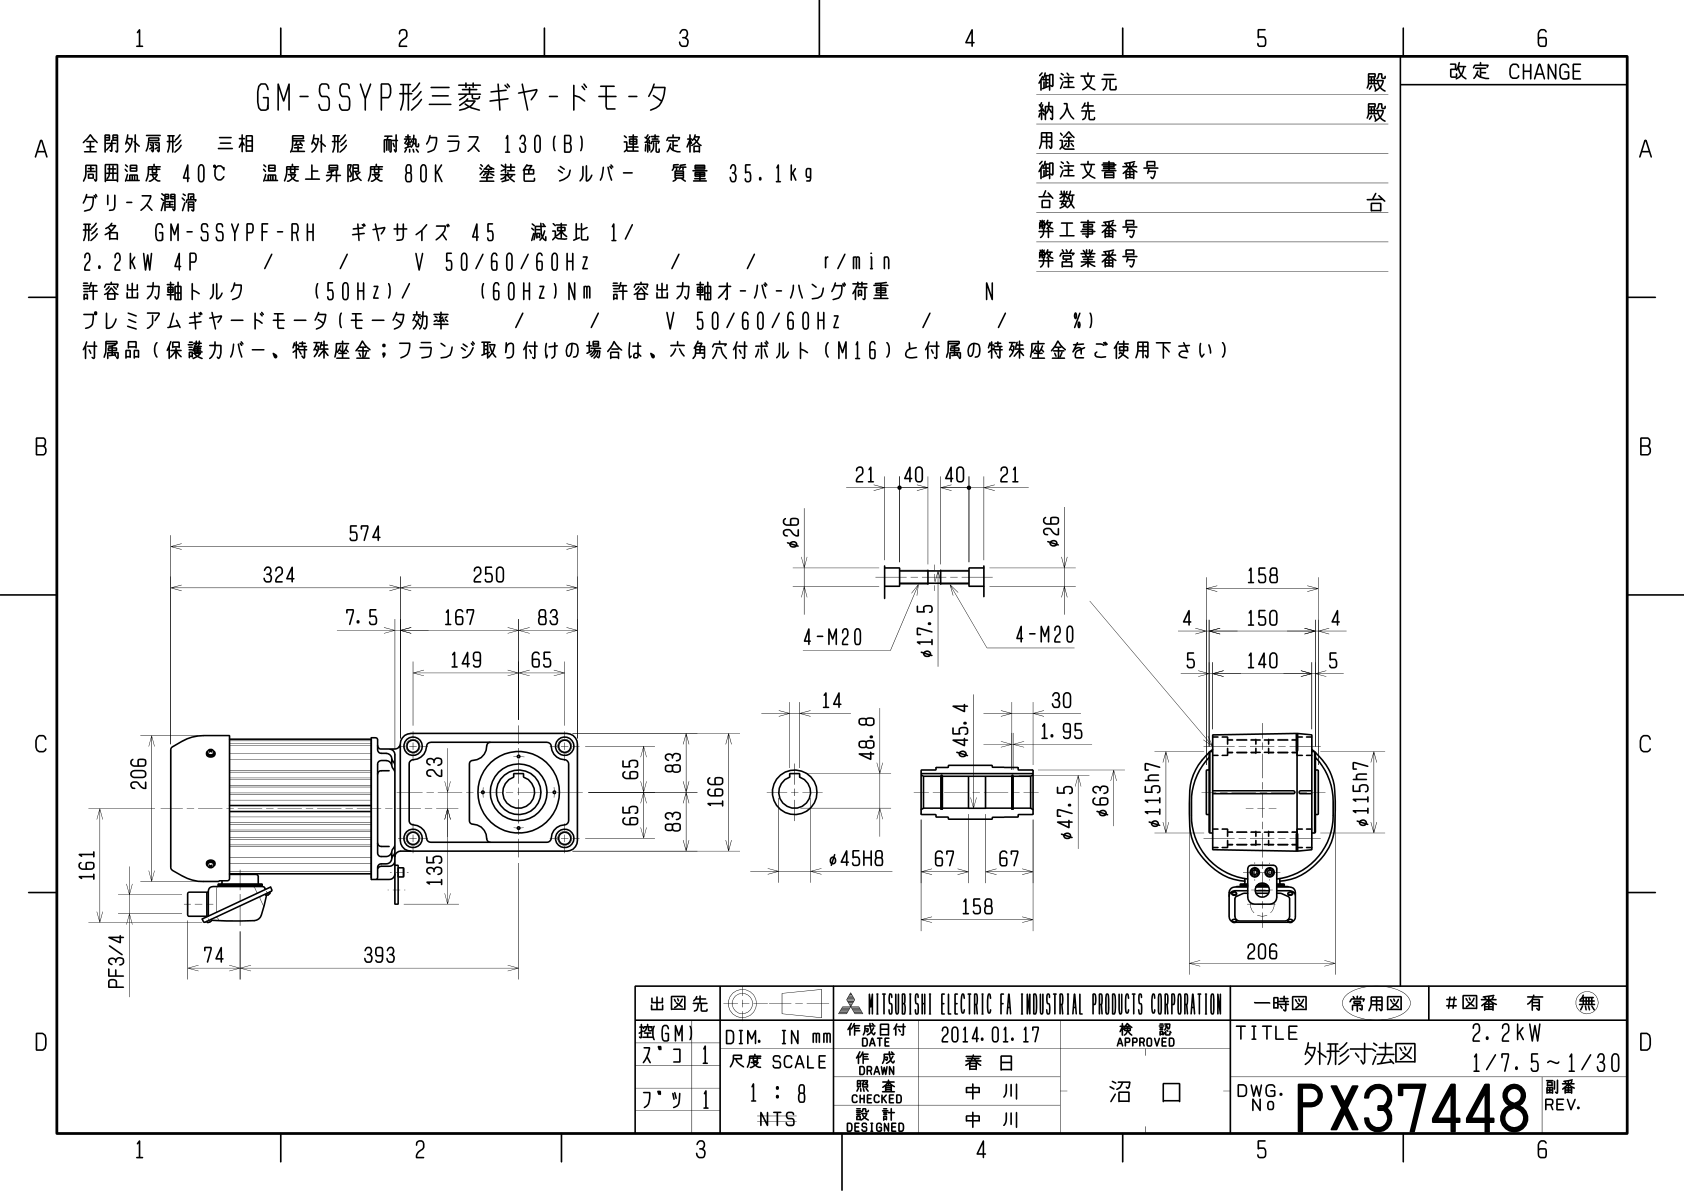GM_SSYP_屋外_三相: (73, 429, 1393, 982)
